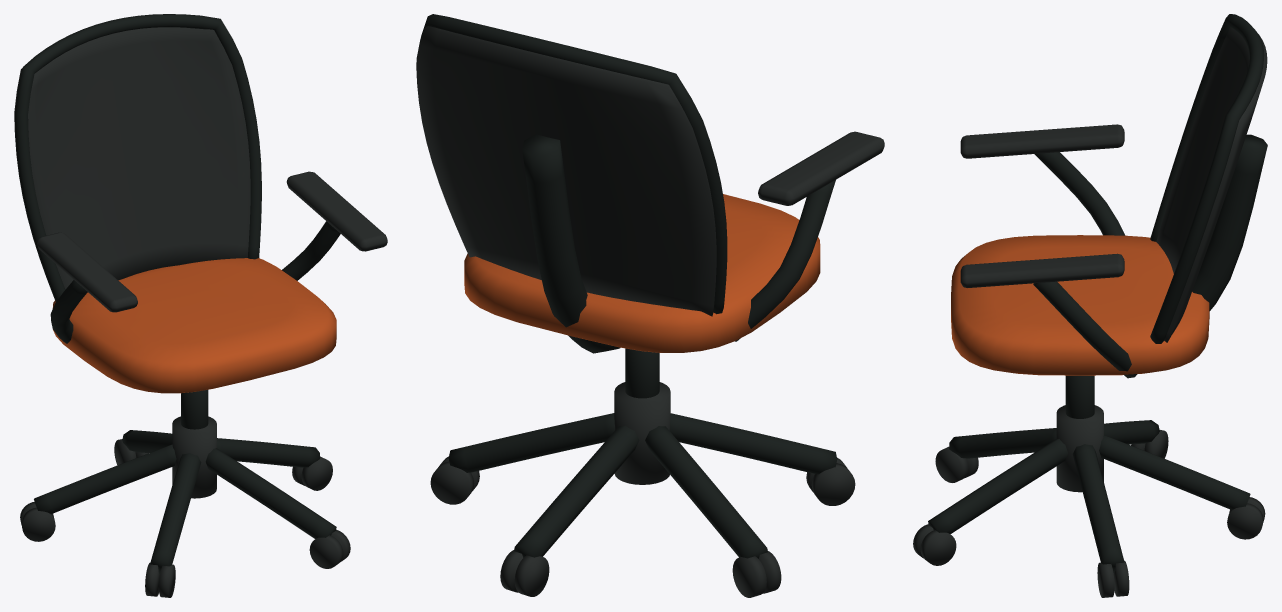
3 views of the same model, side by side, from view 1: azimuth 30°, elevation 25°; view 2: azimuth 150°, elevation 25°; view 3: azimuth 270°, elevation 25° (orthographic). The views are drawn at different scales.
Visible parts, largest first — view 1: Black contoured office chair back shell, Orange upholstered office seat, Molded outer back rim; view 2: Black contoured office chair back shell, Molded outer back rim, Orange upholstered office seat; view 3: Molded outer back rim, Black contoured office chair back shell, Orange upholstered office seat.
Part boxes in pixels (x1,y1,x2,y2): Black contoured office chair back shell: (14, 27, 387, 597); Orange upholstered office seat: (52, 258, 336, 393); Molded outer back rim: (15, 14, 340, 573); Black contoured office chair back shell: (416, 26, 884, 597); Molded outer back rim: (416, 14, 837, 558); Orange upholstered office seat: (464, 194, 820, 352); Molded outer back rim: (928, 14, 1267, 572); Black contoured office chair back shell: (913, 27, 1267, 597); Orange upholstered office seat: (951, 235, 1209, 375).
Bounding box in the file's own units: 0.6626 × 0.9734 × 0.6585.
